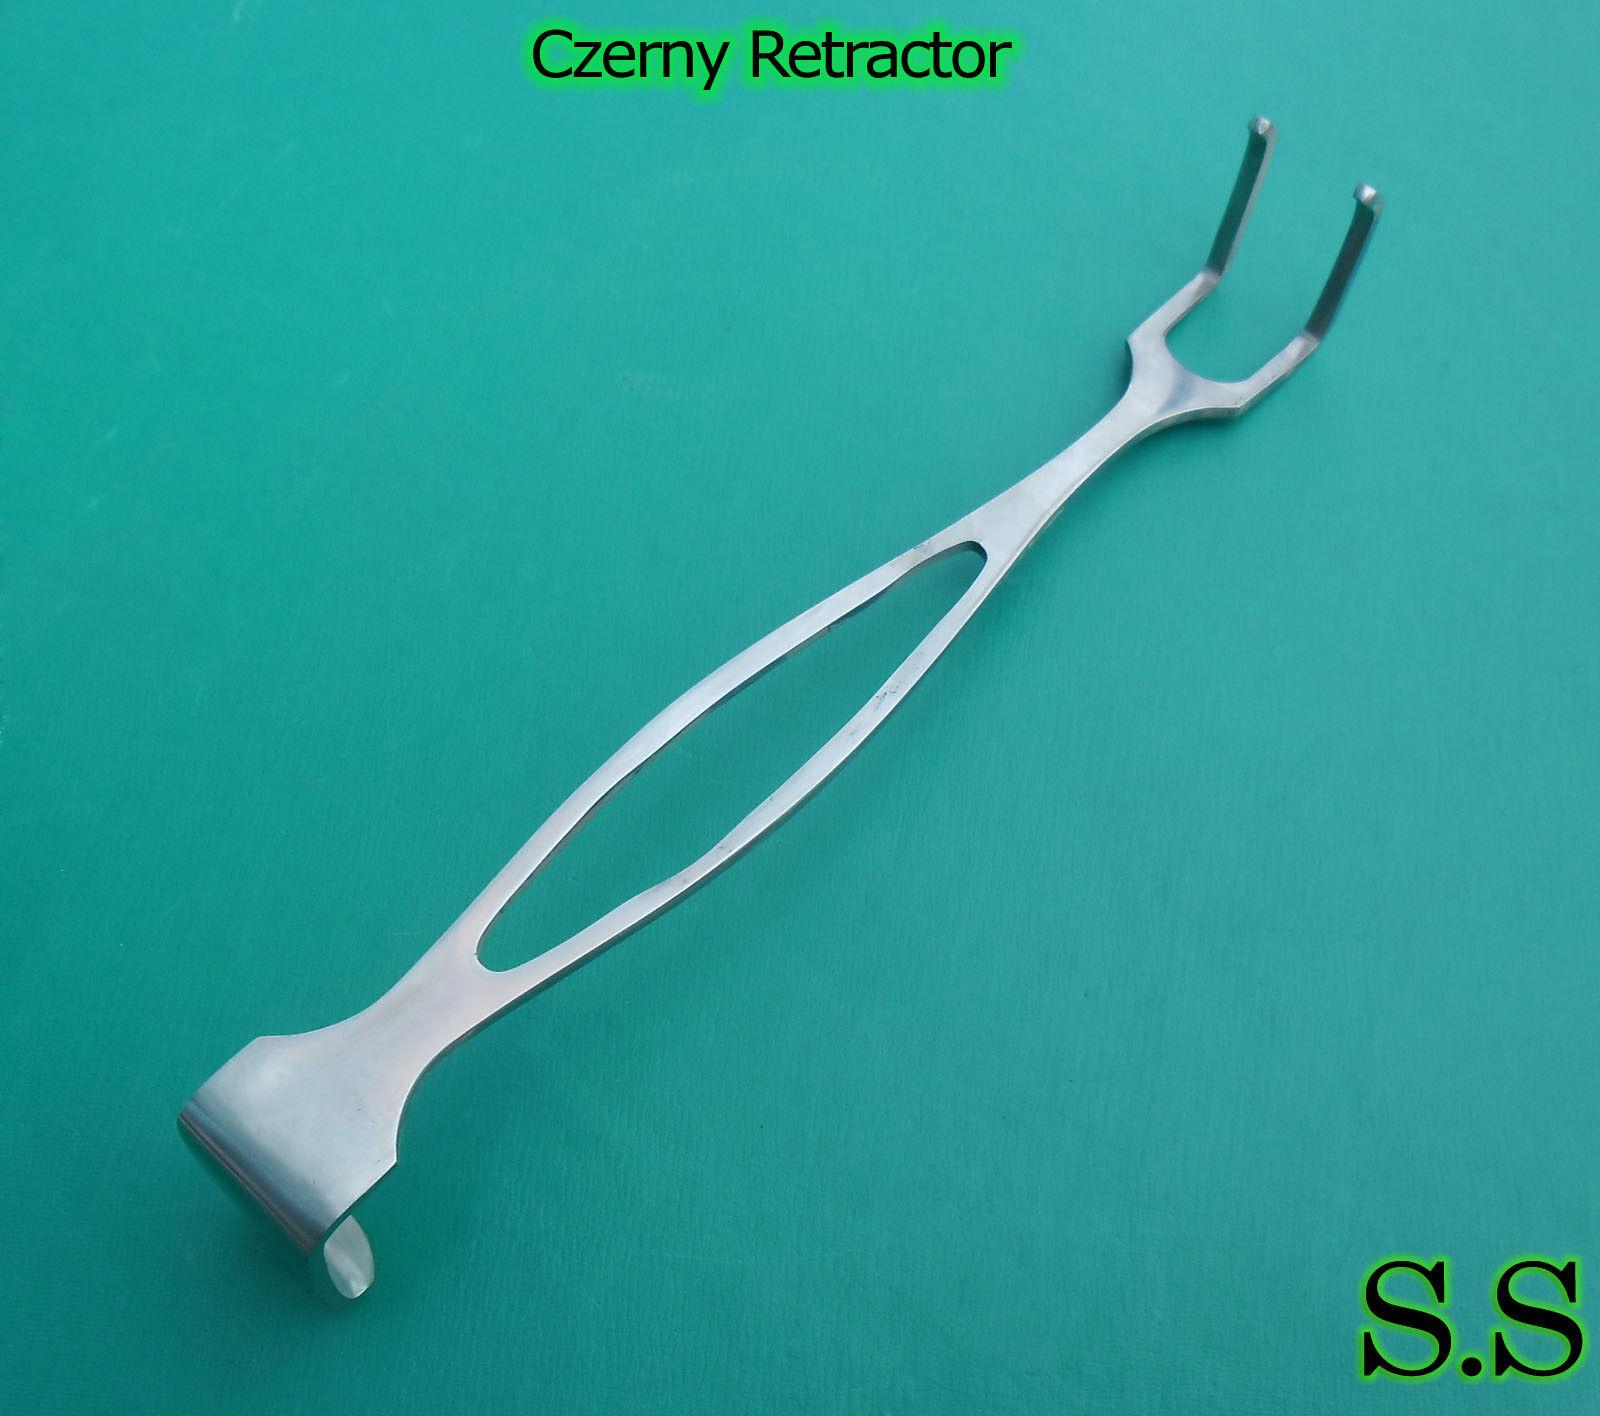Czerney Retractor: (194, 112, 1378, 1326)
